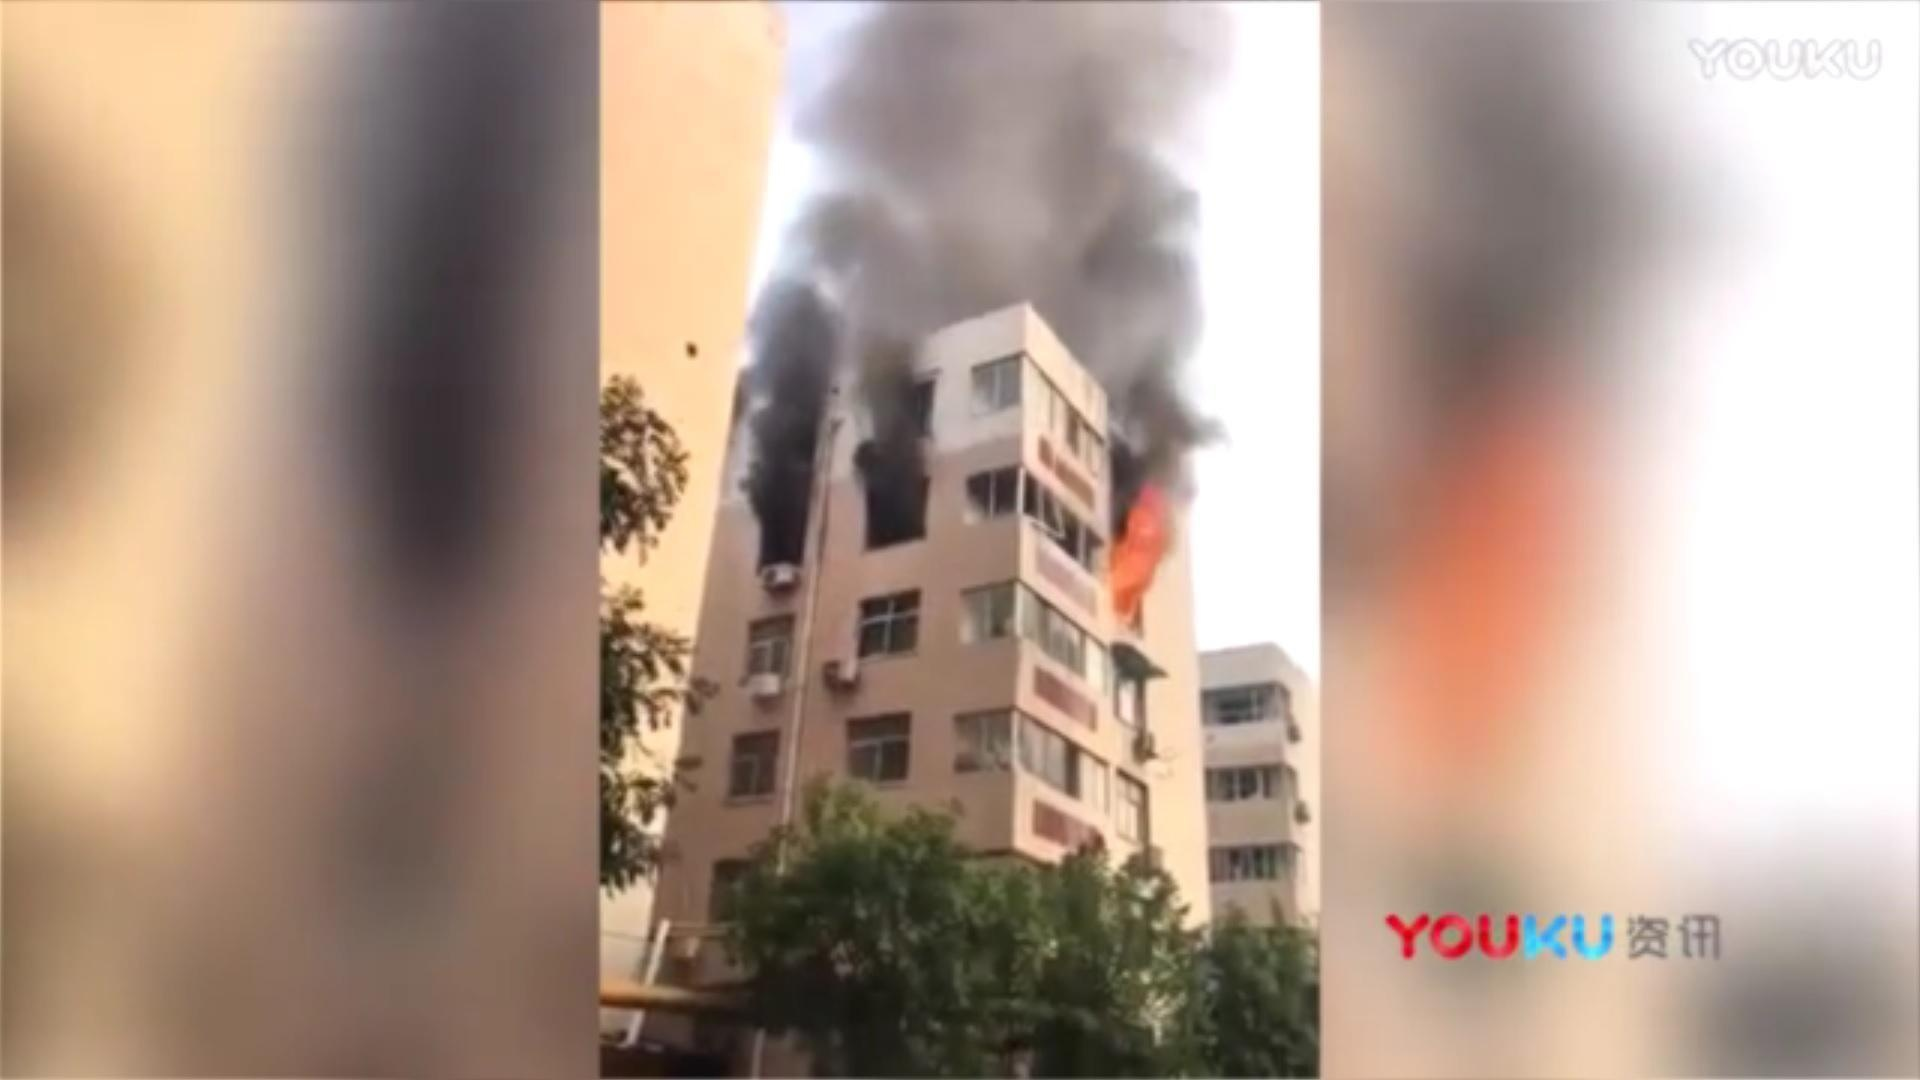fire: (1098, 485, 1170, 611)
